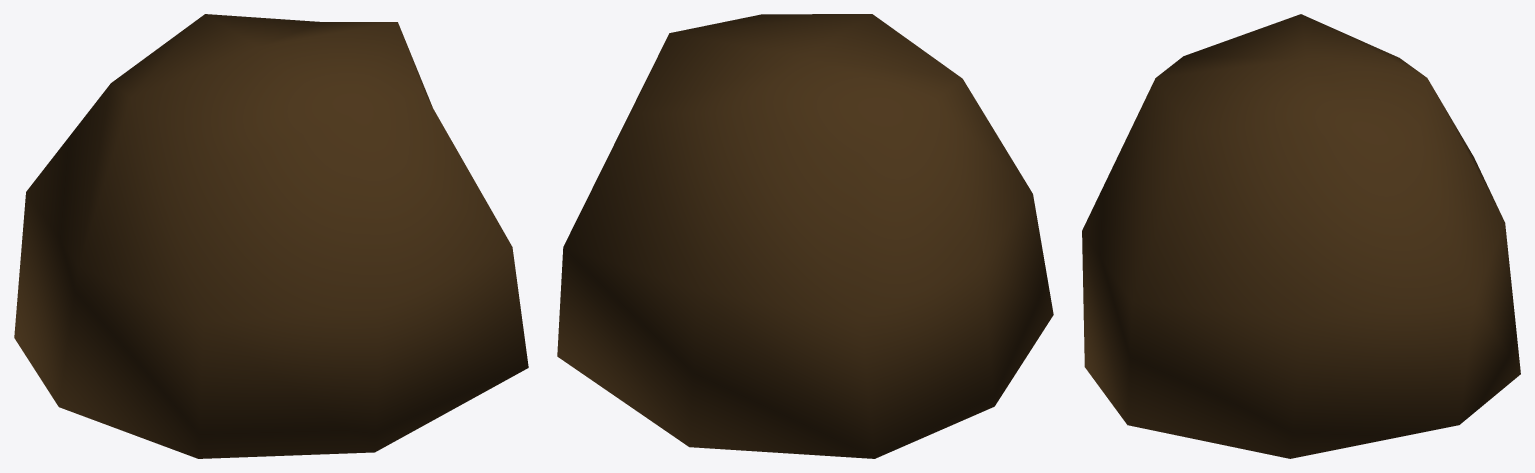
Rendered from rock.fbx.
The picture shows the model from 3 angles, left to right: view 1: azimuth 30°, elevation 25°; view 2: azimuth 150°, elevation 25°; view 3: azimuth 270°, elevation 25°; orthographic projection. The views are drawn at different scales.
Parts seen in each view (by area): view 1: 立方体.001; view 2: 立方体.001; view 3: 立方体.001.
Part boxes in pixels (x1,y1,x2,y2): 立方体.001: [14, 14, 528, 458]; 立方体.001: [557, 14, 1053, 458]; 立方体.001: [1082, 14, 1520, 458].
Bounding box in the file's own units: 167 × 129 × 162.
